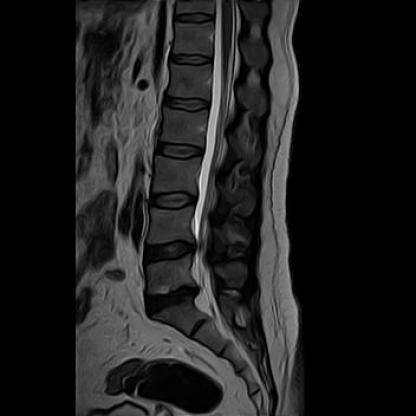Disc Bulgerotation: (141, 283, 208, 314), (142, 235, 201, 269)
